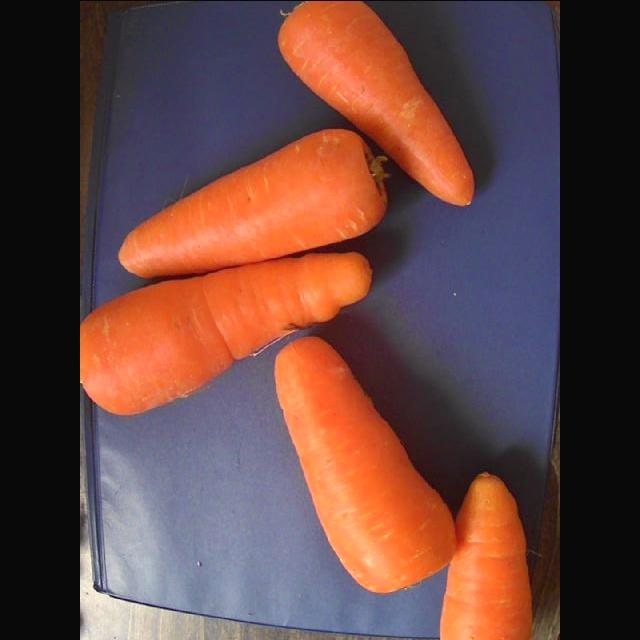zanahoria: (80, 251, 371, 412), (274, 336, 455, 591), (278, 0, 474, 203), (118, 129, 388, 276), (440, 473, 531, 639)
